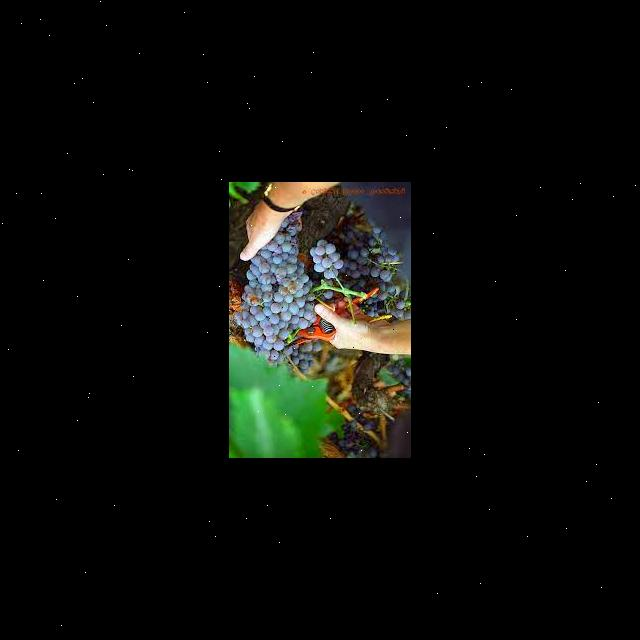grape: (238, 220, 346, 361)
